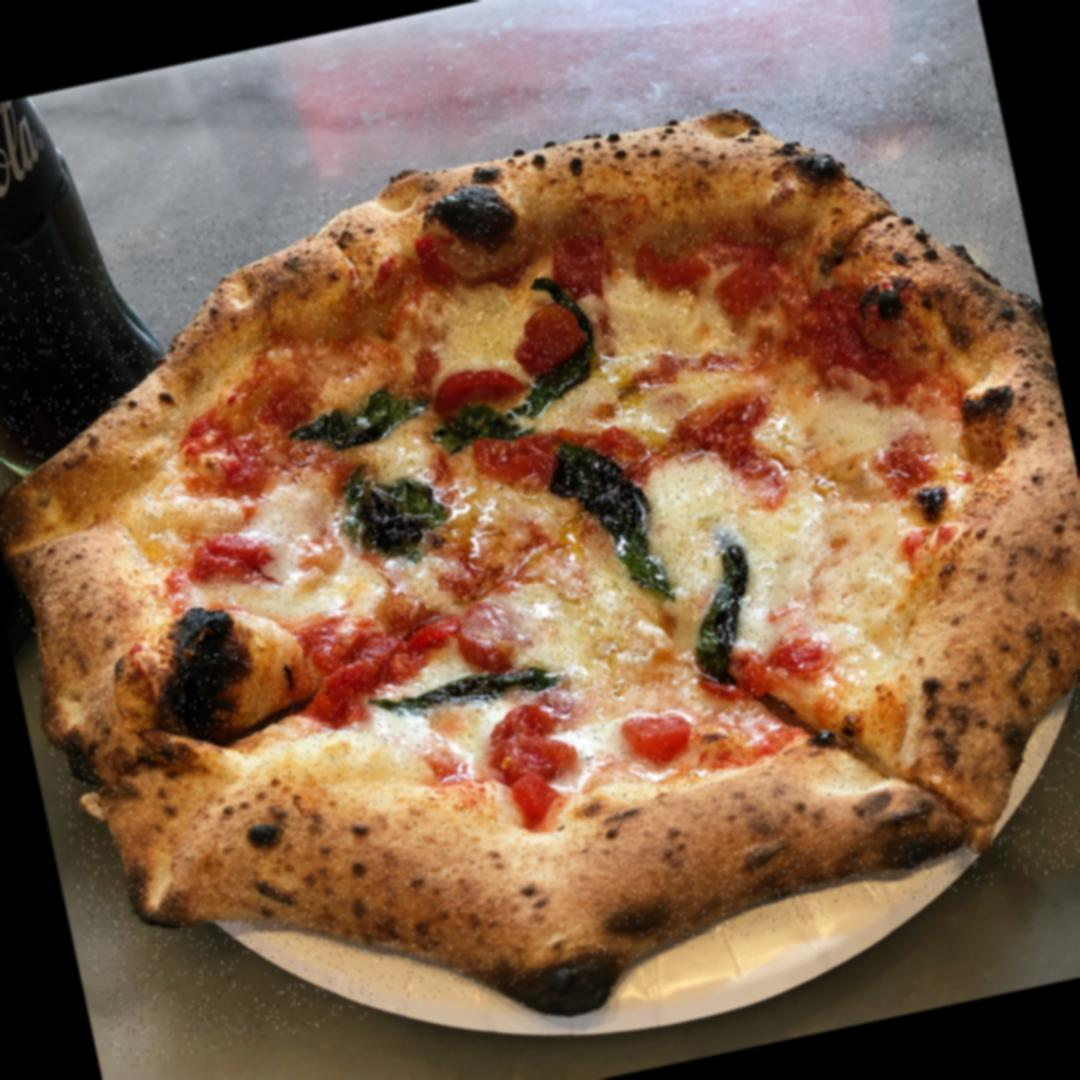Arugula: (561, 422, 688, 610), (512, 278, 620, 440), (688, 534, 767, 686), (340, 469, 448, 570), (294, 378, 417, 453), (408, 658, 540, 726)
Pizza: (0, 50, 1080, 1071)
Tomatoes: (475, 691, 582, 840), (302, 605, 448, 706), (703, 246, 812, 342), (642, 221, 760, 301), (472, 424, 576, 498), (443, 594, 528, 674), (728, 630, 818, 694), (424, 356, 508, 424), (502, 298, 576, 366), (620, 708, 694, 764)
